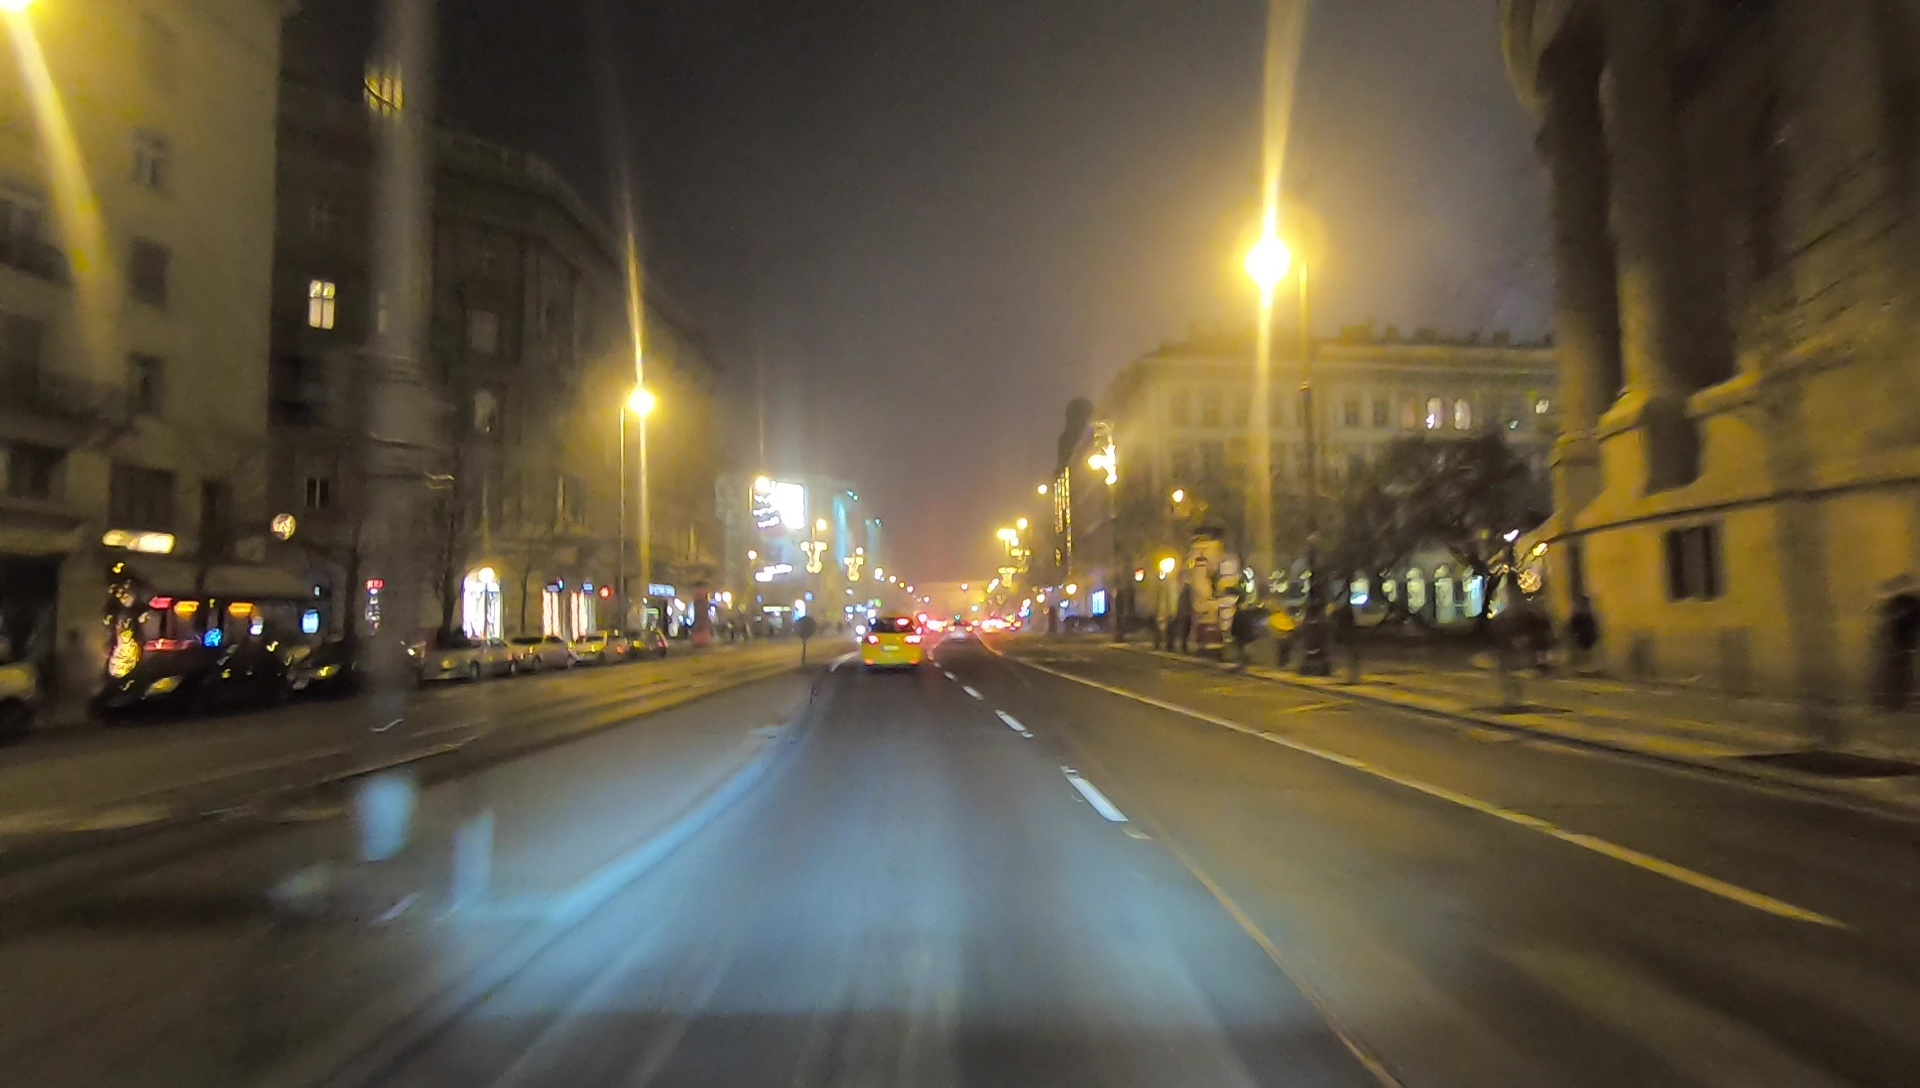person: (1873, 565, 1920, 740), (1523, 586, 1552, 678), (1227, 596, 1260, 674), (1573, 595, 1597, 674), (1171, 586, 1193, 652)
